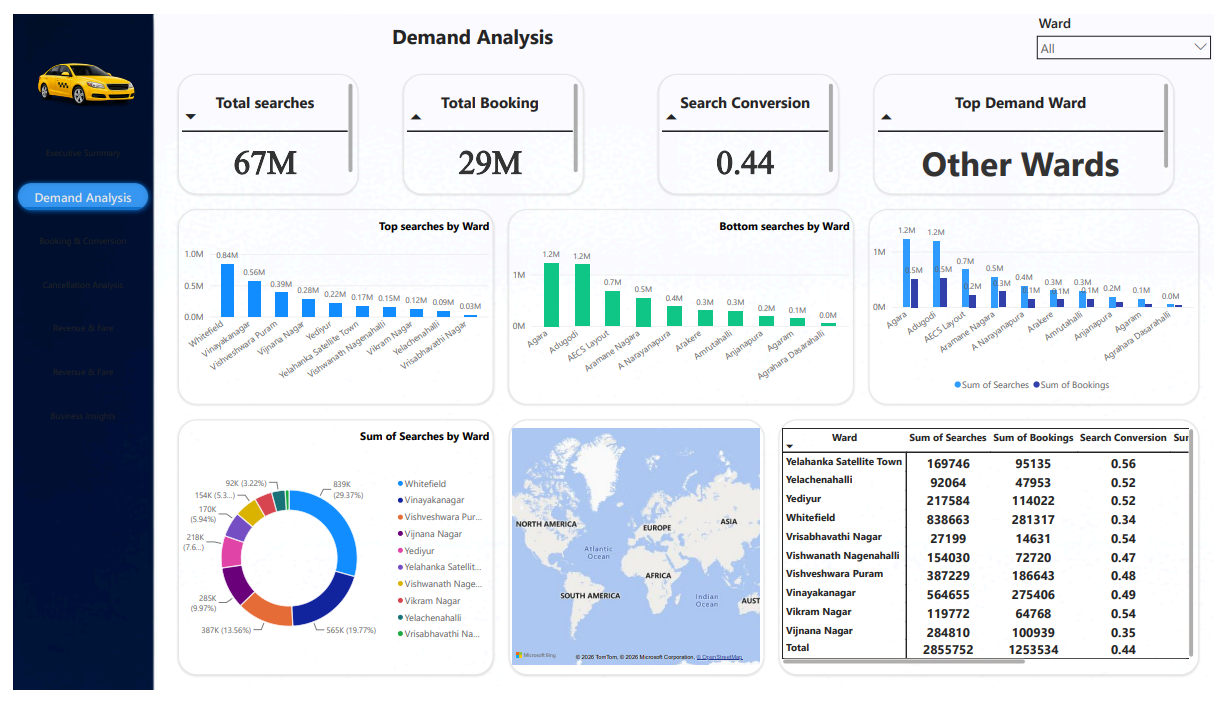

The dashboard page shown, as its layout file describes it:
{"tool":"powerbi","page":{"name":"Demand Analysis","canvas":[1920,1080],"ordinal":1},"visuals":[{"type":"textbox","box":[224,0,1024,96],"z":0},{"type":"tableEx","fields":{"Values":["cleaned_driver_data.Total searches"]},"box":[264,96,288,192],"z":1000},{"type":"tableEx","fields":{"Values":["cleaned_driver_data.Search Conversion"]},"box":[1032,96,288,192],"z":2000},{"type":"tableEx","fields":{"Values":["cleaned_driver_data.Total Booking"]},"box":[624,96,288,192],"z":3000},{"type":"tableEx","fields":{"Values":["cleaned_driver_data.Top Demand Ward"]},"box":[1376,96,480,192],"z":4000},{"type":"clusteredColumnChart","title":"Top searches by Ward","fields":{"Category":["cleaned_driver_data.Ward"],"Y":["cleaned_driver_data.Total searches"]},"box":[264,312,504,312],"z":5000},{"type":"clusteredColumnChart","title":"Bottom searches by Ward","fields":{"Category":["cleaned_driver_data.Ward"],"Y":["cleaned_driver_data.Total searches"]},"box":[792,312,552,312],"z":6000},{"type":"clusteredColumnChart","fields":{"Category":["cleaned_driver_data.Ward"],"Y":["Sum(cleaned_driver_data.Searches)","Sum(cleaned_driver_data.Bookings)"]},"box":[1368,312,528,312],"z":7000},{"type":"donutChart","fields":{"Category":["cleaned_driver_data.Ward"],"Y":["Sum(cleaned_driver_data.Searches)"]},"box":[264,648,504,408],"z":8000},{"type":"pivotTable","fields":{"Rows":["cleaned_driver_data.Ward"],"Values":["Sum(cleaned_driver_data.Searches)","Sum(cleaned_driver_data.Bookings)","cleaned_driver_data.Search Conversion","Sum(cleaned_driver_data.Drivers' Earnings)","Sum(cleaned_driver_data.Searches)"]},"box":[1224,648,672,408],"z":9000},{"type":"filledMap","fields":{"Category":["cleaned_driver_data.Ward"]},"box":[793,648,408,408],"z":10000},{"type":"slicer","fields":{"Values":["cleaned_driver_data.Ward"]},"box":[1632,0,288,96],"z":11000},{"type":"pageNavigator","box":[0,192,224,480],"z":12000},{"type":"image","box":[0,0,288,192],"z":12001}]}

Visuals, with their boxes on the page's 1920x1080 design canvas (x1, y1, x2, y2). These are canvas units, not pixel positions in the 1226x701 screenshot, which may show the page scaled, cropped or inside an application window:
textbox: pyautogui.locateOnScreen(224, 0, 1248, 96)
tableEx - cleaned_driver_data.Total searches: pyautogui.locateOnScreen(264, 96, 552, 288)
tableEx - cleaned_driver_data.Search Conversion: pyautogui.locateOnScreen(1032, 96, 1320, 288)
tableEx - cleaned_driver_data.Total Booking: pyautogui.locateOnScreen(624, 96, 912, 288)
tableEx - cleaned_driver_data.Top Demand Ward: pyautogui.locateOnScreen(1376, 96, 1856, 288)
"Top searches by Ward" clusteredColumnChart: pyautogui.locateOnScreen(264, 312, 768, 624)
"Bottom searches by Ward" clusteredColumnChart: pyautogui.locateOnScreen(792, 312, 1344, 624)
clusteredColumnChart - cleaned_driver_data.Ward x Sum(cleaned_driver_data.Searches): pyautogui.locateOnScreen(1368, 312, 1896, 624)
donutChart - cleaned_driver_data.Ward x Sum(cleaned_driver_data.Searches): pyautogui.locateOnScreen(264, 648, 768, 1056)
pivotTable - cleaned_driver_data.Ward x Sum(cleaned_driver_data.Searches): pyautogui.locateOnScreen(1224, 648, 1896, 1056)
filledMap - cleaned_driver_data.Ward: pyautogui.locateOnScreen(793, 648, 1201, 1056)
slicer - cleaned_driver_data.Ward: pyautogui.locateOnScreen(1632, 0, 1920, 96)
pageNavigator: pyautogui.locateOnScreen(0, 192, 224, 672)
image: pyautogui.locateOnScreen(0, 0, 288, 192)
